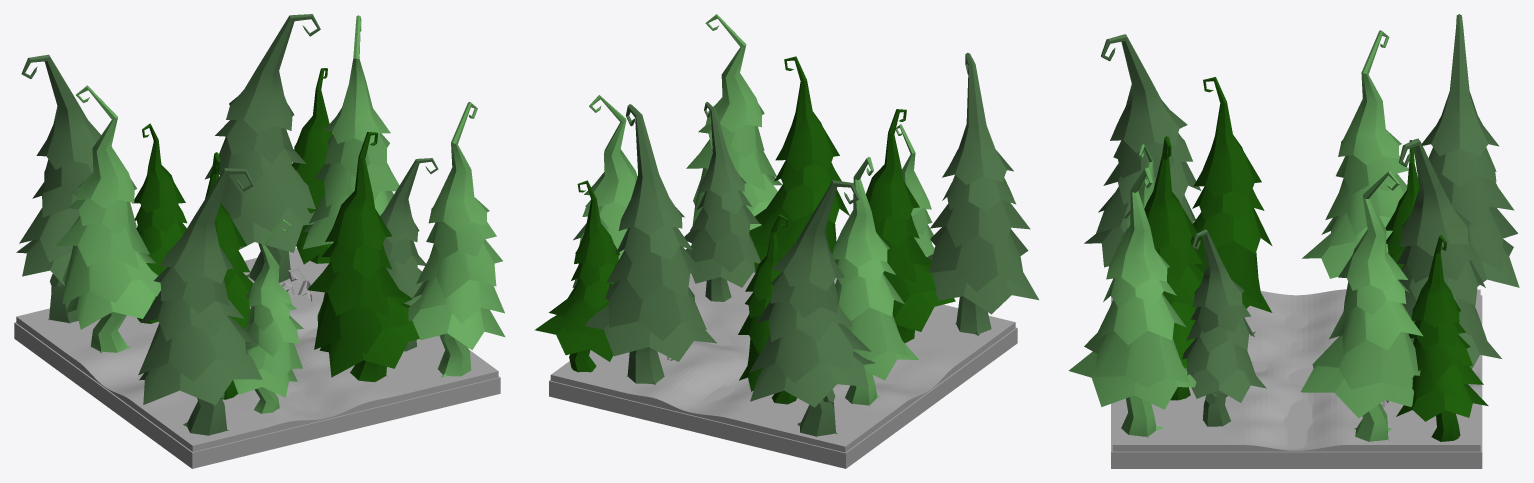
File: Foret_labyrinth03_v1.fbx
3 renders of one model, left to right at view 1: azimuth 30°, elevation 25°; view 2: azimuth 150°, elevation 25°; view 3: azimuth 270°, elevation 25°, orthographic. The views are drawn at different scales.
Parts seen in each view (by area): view 1: sol38, sapin48, sapin47, sapin44, sapin39, sapin46, sol37, sapin41, sapin43, sapin49, sapin40, sapin45 (+2 smaller); view 2: sol38, sapin44, sapin41, sapin48, sapin39, sol37, sapin47, sapin45, sapin50, sapin46, sapin42, sapin43 (+2 smaller); view 3: sol38, sapin46, sapin43, sapin41, sol37, sapin39, sapin44, sapin50, sapin48, sapin45, sapin42, sapin47 (+2 smaller).
Boxes of the visible parts, x1,y1,x2,y2 form: sol38: [16, 248, 498, 451]; sapin48: [138, 168, 262, 435]; sapin47: [307, 132, 419, 382]; sapin44: [205, 14, 320, 282]; sapin39: [56, 85, 160, 353]; sapin46: [407, 102, 505, 377]; sol37: [14, 322, 500, 468]; sapin41: [16, 54, 111, 323]; sapin43: [302, 15, 399, 249]; sapin49: [233, 219, 303, 413]; sapin40: [132, 123, 187, 323]; sapin45: [380, 158, 438, 351]; sol38: [550, 272, 1015, 452]; sapin44: [585, 104, 716, 384]; sapin41: [749, 180, 875, 436]; sapin48: [927, 52, 1038, 335]; sapin39: [832, 157, 918, 405]; sol37: [549, 327, 1017, 468]; sapin47: [749, 56, 849, 272]; sapin45: [684, 102, 760, 301]; sapin50: [866, 109, 955, 342]; sapin46: [686, 14, 782, 230]; sapin42: [534, 180, 619, 372]; sapin43: [572, 95, 637, 287]; sol38: [1112, 289, 1480, 451]; sapin46: [1068, 167, 1196, 437]; sapin43: [1301, 170, 1422, 441]; sapin41: [1422, 14, 1519, 287]; sol37: [1111, 295, 1482, 468]; sapin39: [1302, 30, 1408, 278]; sapin44: [1397, 138, 1501, 368]; sapin50: [1190, 77, 1272, 312]; sapin48: [1084, 34, 1201, 267]; sapin45: [1182, 229, 1266, 426]; sapin42: [1396, 235, 1488, 441]; sapin47: [1144, 136, 1203, 400].
Bounding box in the file's own units: 952 × 714 × 973.
